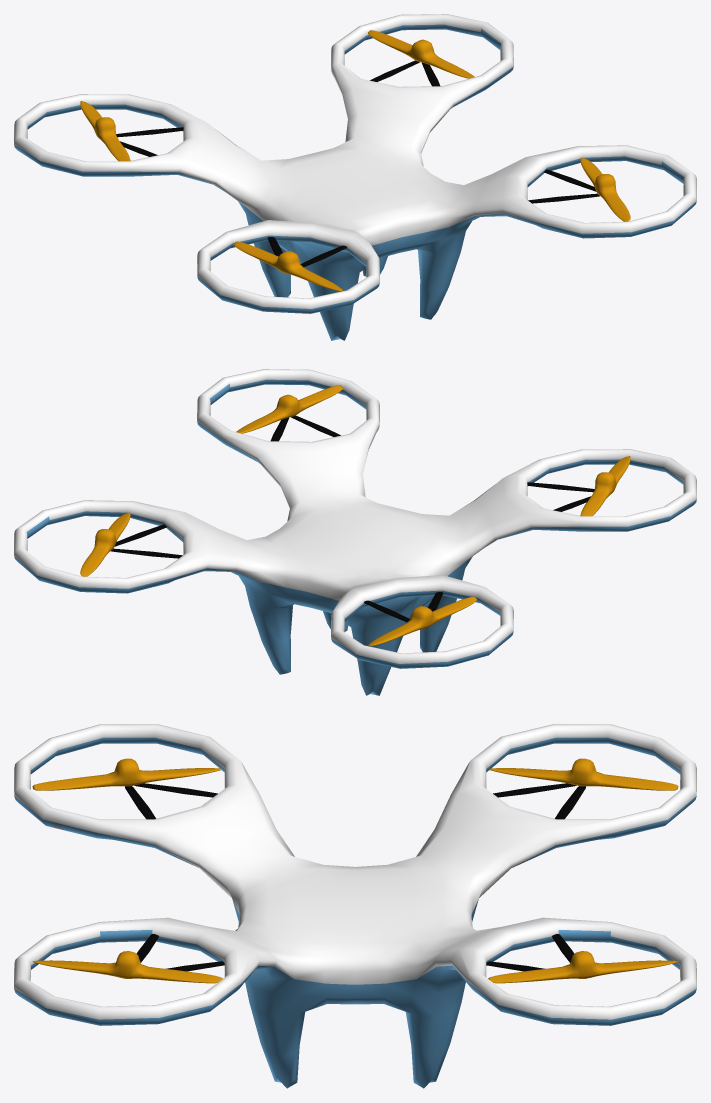
The model's file is heli.fbx.
3 renders of one model, top to bottom at view 1: azimuth 30°, elevation 25°; view 2: azimuth 150°, elevation 25°; view 3: azimuth 270°, elevation 25°, orthographic. The views are drawn at different scales.
Visible parts, largest first — view 1: HeliBody, Propeller3, Propeller2, Propeller4, Propeller1; view 2: HeliBody, Propeller1, Propeller4, Propeller2, Propeller3; view 3: HeliBody, Propeller1, Propeller3, Propeller2, Propeller4.
Boxes of the visible parts, bbox=[...] form: HeliBody: bbox=[14, 14, 696, 340]; Propeller3: bbox=[233, 241, 342, 291]; Propeller2: bbox=[368, 30, 474, 78]; Propeller4: bbox=[580, 157, 630, 221]; Propeller1: bbox=[80, 101, 130, 161]; HeliBody: bbox=[14, 369, 696, 695]; Propeller1: bbox=[368, 596, 477, 646]; Propeller4: bbox=[236, 385, 342, 433]; Propeller2: bbox=[80, 512, 130, 576]; Propeller3: bbox=[580, 456, 630, 516]; HeliBody: bbox=[14, 724, 696, 1088]; Propeller1: bbox=[488, 758, 678, 790]; Propeller3: bbox=[32, 758, 222, 790]; Propeller2: bbox=[488, 951, 677, 983]; Propeller4: bbox=[33, 951, 222, 983].
Size of the model in its own units: 60.15 by 19.57 by 59.98.
